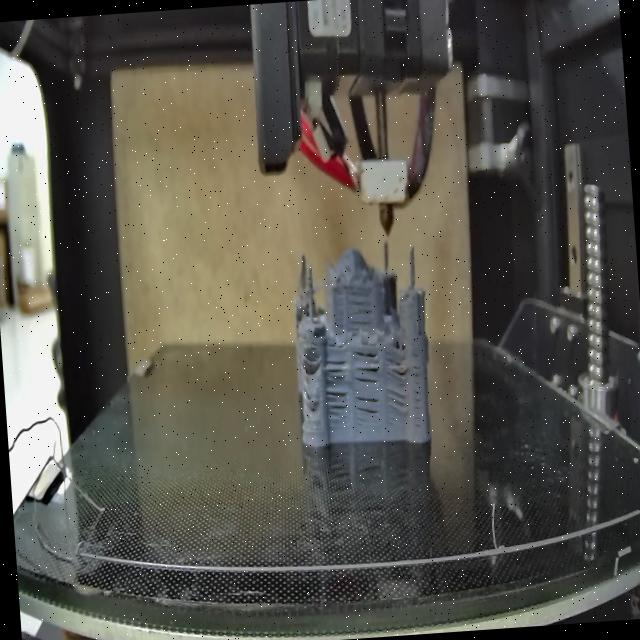cracks: (323, 354, 351, 422), (408, 347, 425, 432), (350, 347, 380, 384), (344, 290, 372, 328), (354, 390, 381, 426), (386, 382, 411, 417), (386, 348, 411, 382), (301, 383, 319, 412), (302, 351, 318, 381)
